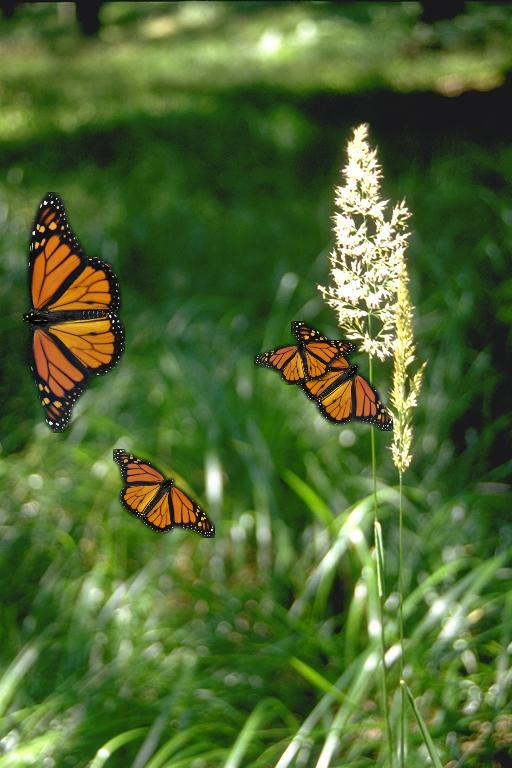danaus_plexippus: (23, 192, 125, 433), (291, 321, 393, 431), (113, 449, 215, 538), (254, 340, 356, 385)
